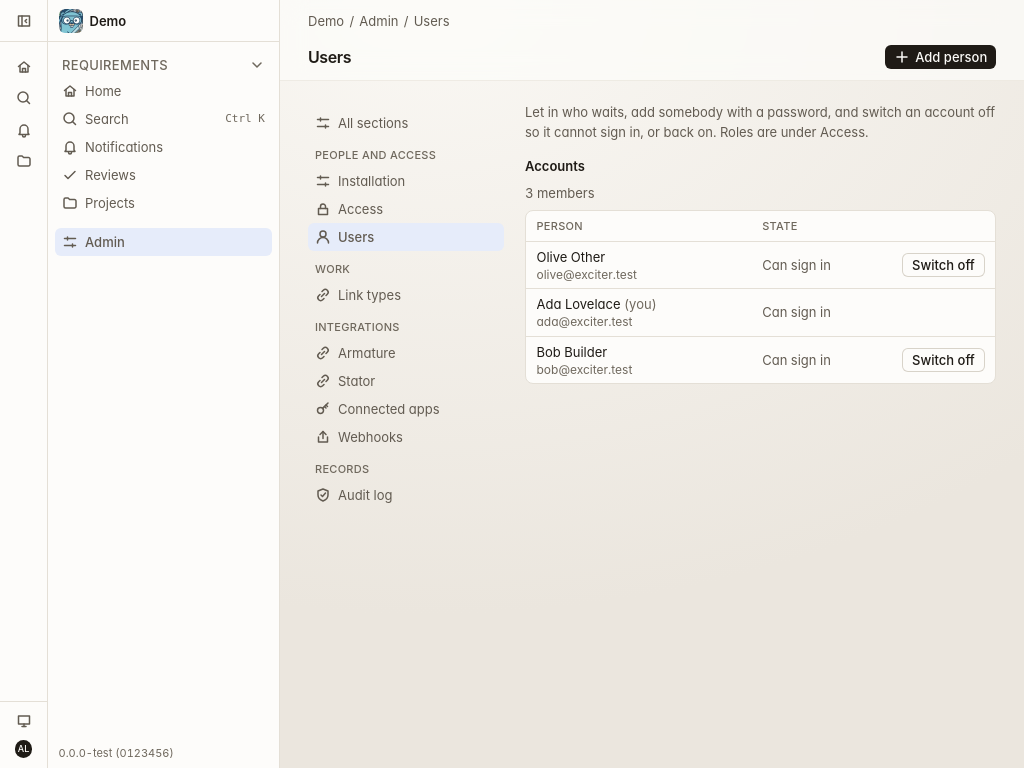
the Users page › asks before switching somebody off, and does nothing when the answer is no
Click the button with aria-label "Switch Bob Builder off": point(943, 360) [902,348,984,372]
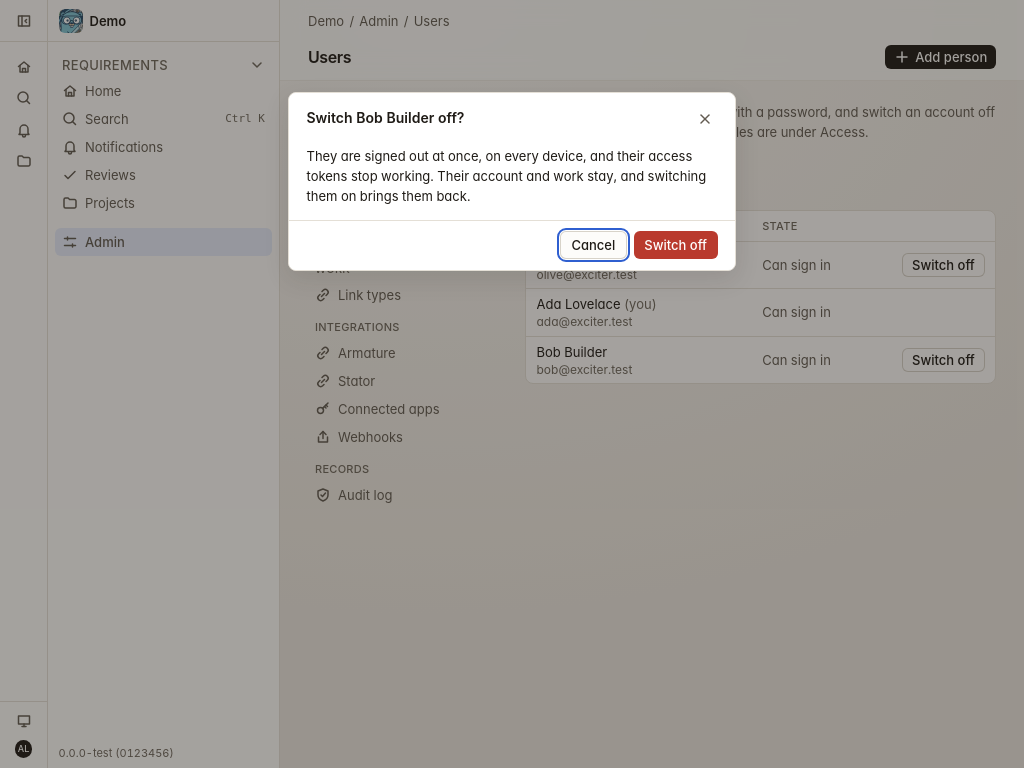
Result: the dialog "Switch Bob Builder off?" shows "They are signed out at once, on every device" at [306,148,706,204]
Click the button "Cancel": point(593, 245) [560,231,627,259]
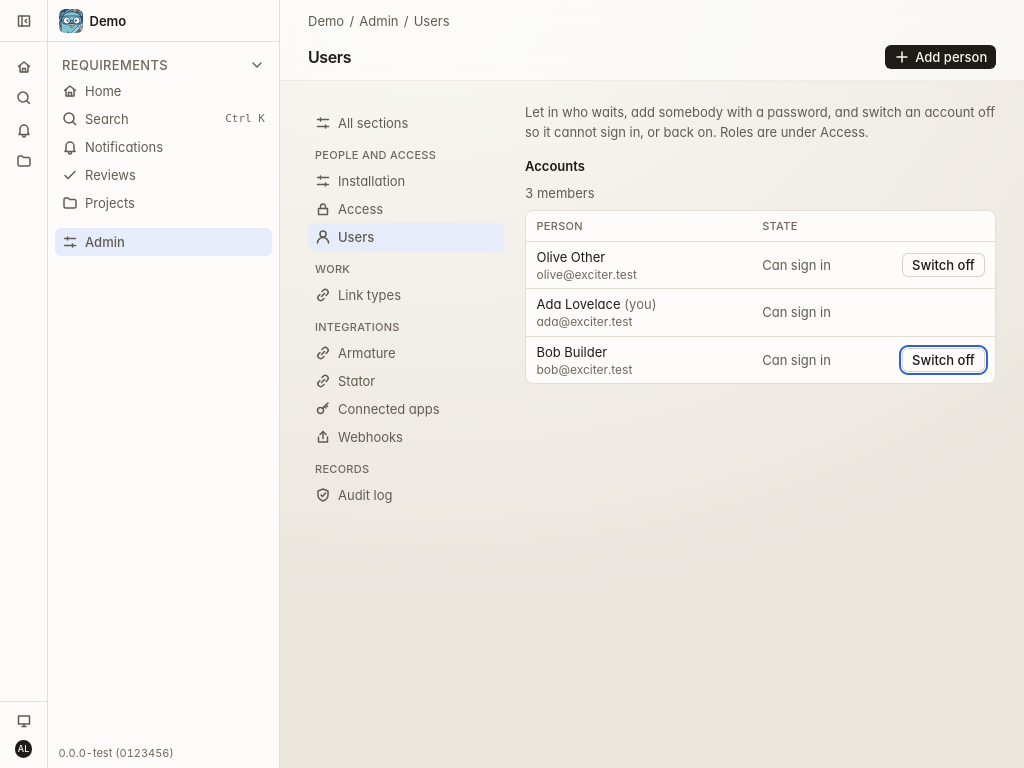
Result: the dialog is gone
